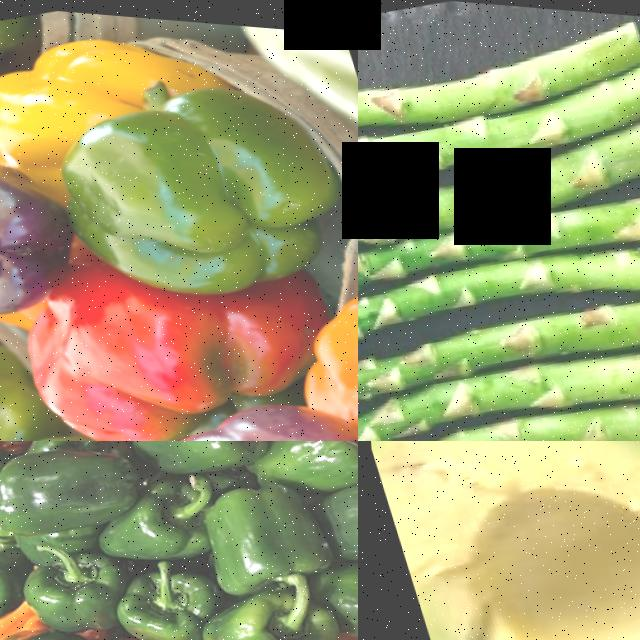asparagus: (358, 85, 640, 302), (358, 144, 640, 355), (358, 35, 640, 242), (358, 193, 640, 396), (358, 242, 640, 441), (358, 0, 640, 198), (358, 282, 640, 441), (358, 333, 640, 441)
avocado: (358, 441, 640, 640), (554, 441, 640, 640)
bell pepper: (55, 67, 307, 298), (19, 268, 274, 435), (189, 474, 321, 586), (137, 375, 358, 441), (0, 441, 129, 539), (185, 570, 333, 640), (0, 142, 44, 339), (87, 488, 201, 562), (20, 548, 110, 625), (111, 564, 206, 628), (251, 441, 358, 492), (135, 441, 265, 476), (310, 471, 358, 564)
